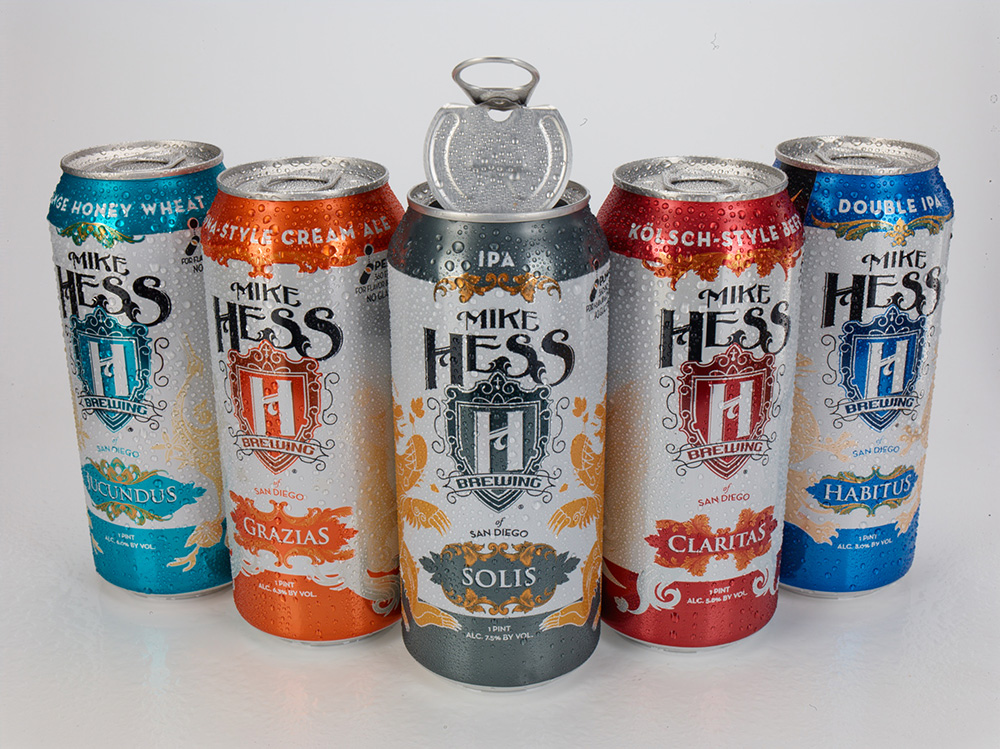beer can: (400, 159, 607, 692), (604, 155, 790, 644), (47, 148, 243, 597), (226, 158, 407, 634), (769, 135, 912, 605)
